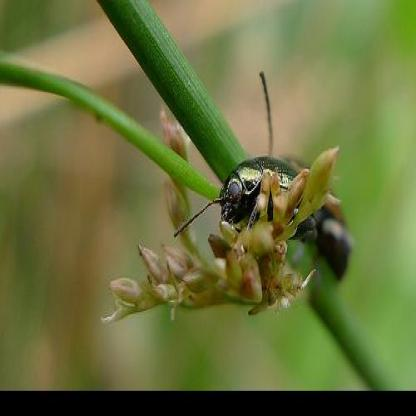beetle: (201, 144, 348, 272)
